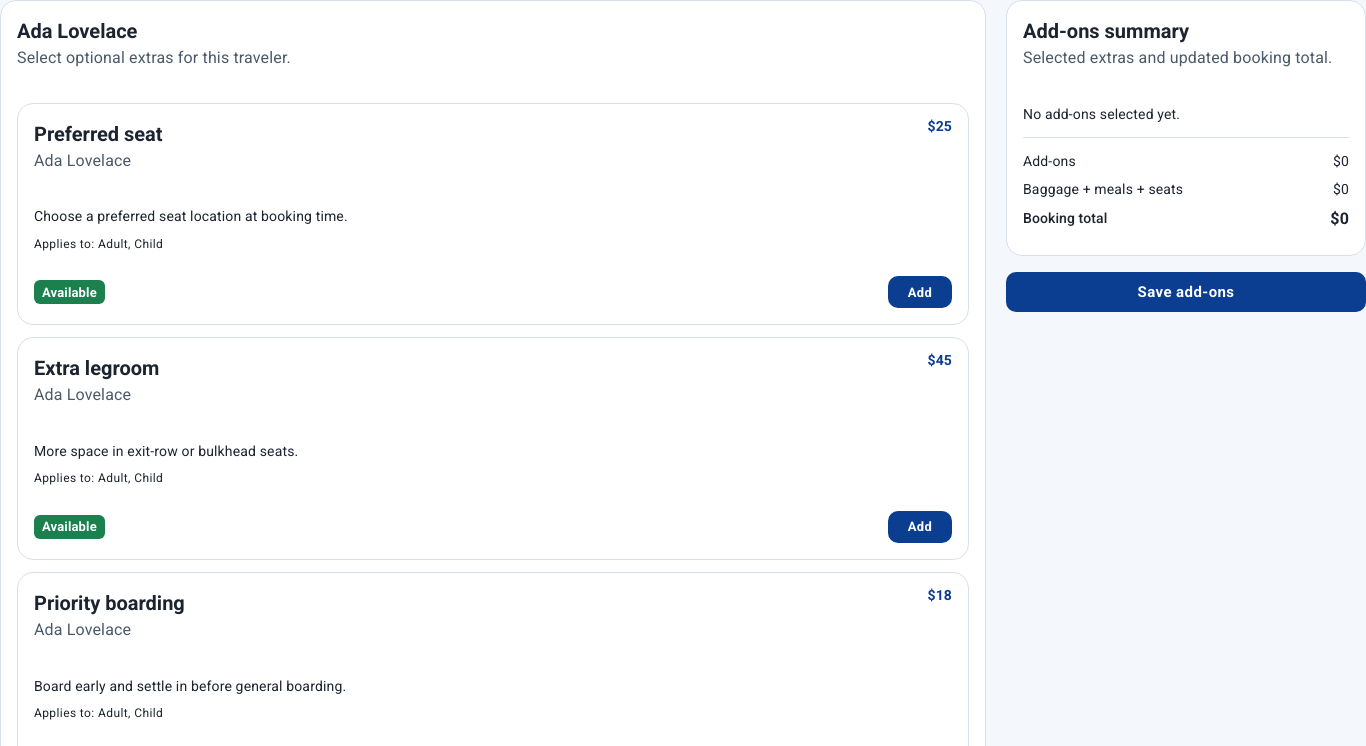
AddonSelectionPanel › dismisses the success alert after a valid save
The image size is (1366, 746).
Click the button "Save add-ons" at (1186, 292), box [1006, 272, 1365, 312]
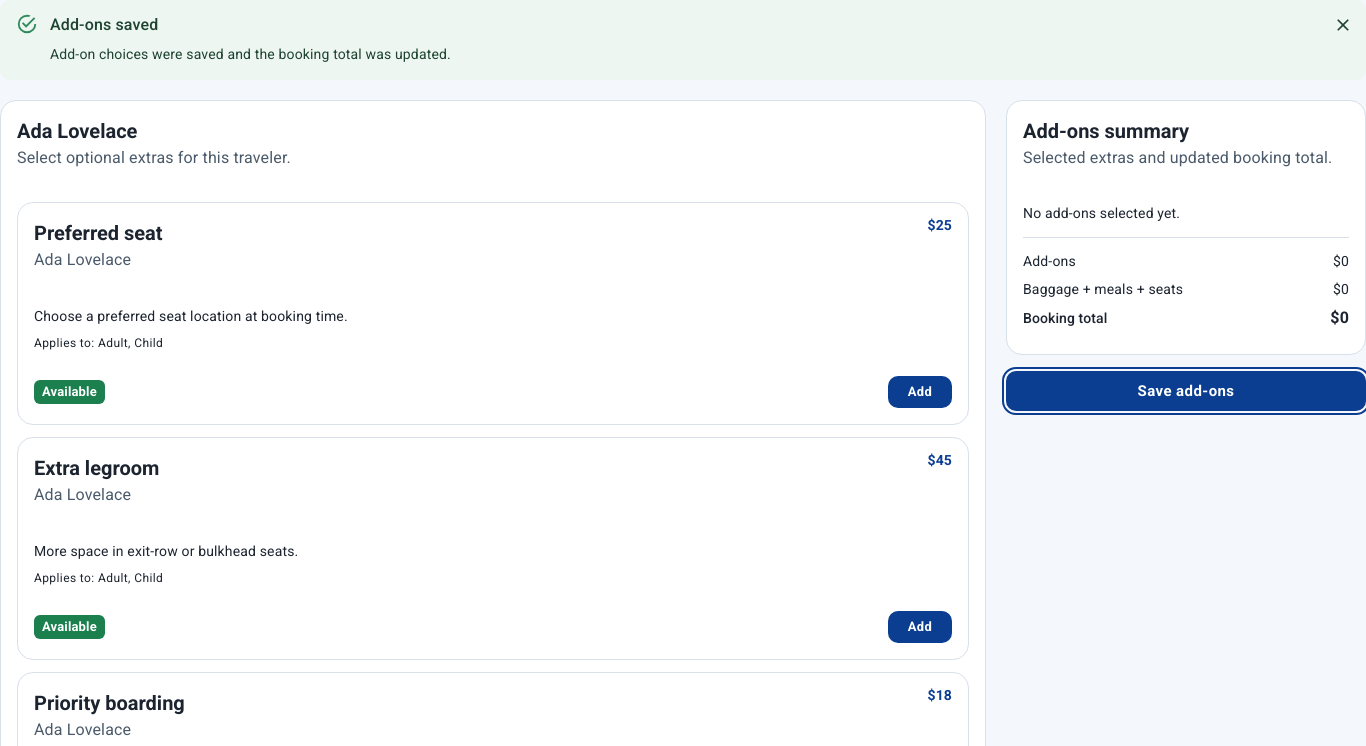
Expected: the text "Add-ons saved" is shown, [50, 15, 158, 34]
Click the button named "close" at (1343, 25), box [1328, 10, 1358, 40]
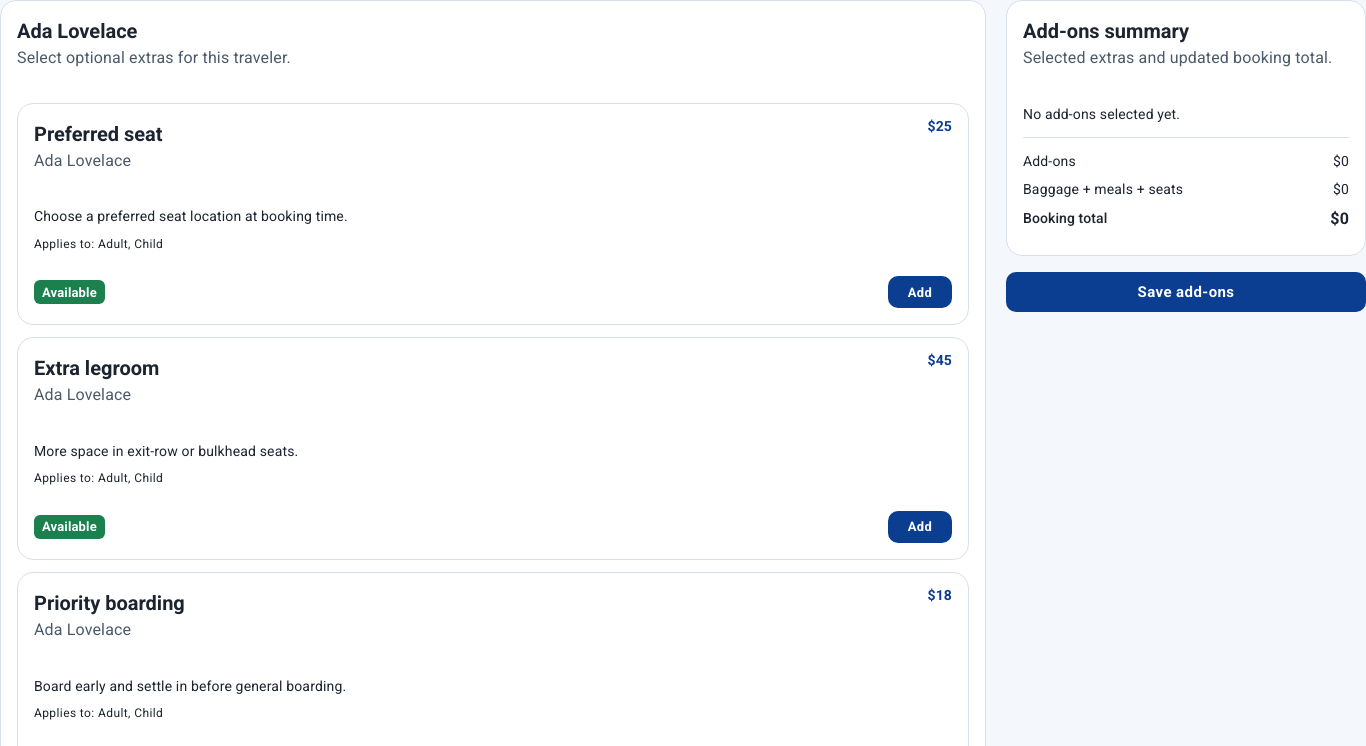
Expected: the text "Add-ons saved" is gone
